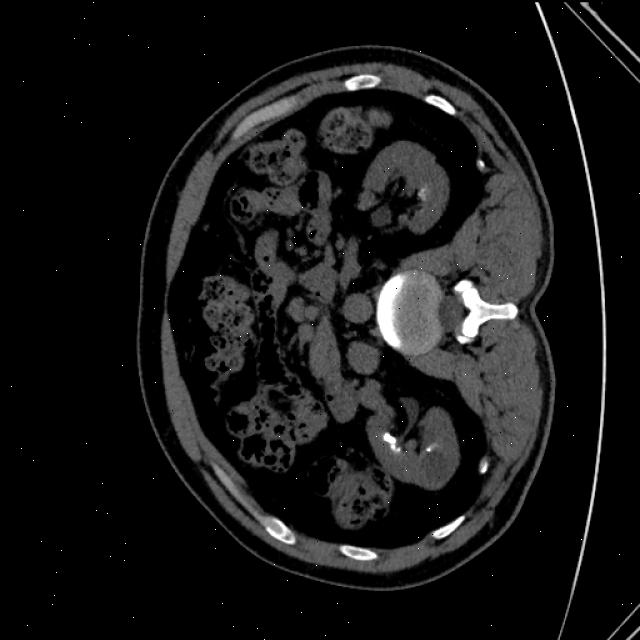kidneystone: (382, 431, 399, 450), (421, 444, 434, 452)
